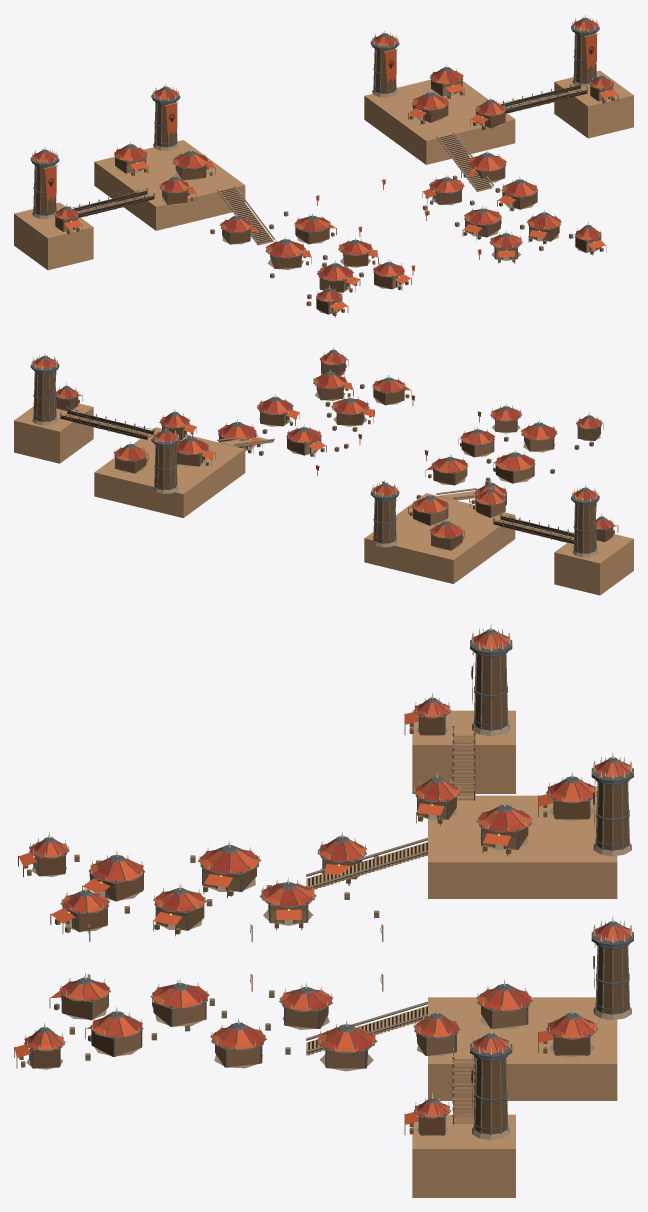
The model's file is orgrimmar-wards.glb.
3 views of the same model, one above another, from view 1: azimuth 30°, elevation 25°; view 2: azimuth 150°, elevation 25°; view 3: azimuth 270°, elevation 25° (orthographic). The views are drawn at different scales.
Parts seen in each view (by area): view 1: Solid_UpperWard_1_sand, Solid_UpperWard_-1_sand, Solid_UpperWard_-1_wood, Solid_UpperWard_1_wood, Detail_UpperWard_1_red2, Detail_UpperWard_-1_red2, Detail_UpperWard_1_iron, Detail_UpperWard_-1_iron, HiddenSolid_UpperWard_1_dark, HiddenSolid_UpperWard_-1_dark, Solid_LowerWard_0_wood, Detail_LowerWard_2_iron (+21 smaller); view 2: Solid_UpperWard_-1_sand, Solid_UpperWard_1_sand, Solid_UpperWard_1_wood, Solid_UpperWard_-1_wood, Detail_UpperWard_-1_iron, Detail_UpperWard_1_iron, Solid_LowerWard_0_wood2, Detail_LowerWard_0_iron, Detail_LowerWard_2_iron, Detail_LowerWard_2_red2, Detail_UpperWard_1_edge, Detail_LowerWard_1_iron (+26 smaller); view 3: Solid_UpperWard_-1_sand, Solid_UpperWard_1_sand, Solid_UpperWard_1_wood, Solid_UpperWard_-1_wood, Detail_UpperWard_1_iron, Detail_UpperWard_-1_iron, Solid_LowerWard_2_wood2, Detail_UpperWard_-1_red2, Detail_LowerWard_0_red2, Detail_LowerWard_2_iron, Detail_UpperWard_1_red2, Detail_LowerWard_0_iron (+22 smaller).
Boxes of the visible parts, x1,y1,x2,y2 form: Solid_UpperWard_1_sand: (364,70,633,164); Solid_UpperWard_-1_sand: (14,140,245,270); Solid_UpperWard_-1_wood: (34,103,205,231); Solid_UpperWard_1_wood: (374,34,598,128); Detail_UpperWard_1_red2: (376,21,617,123); Detail_UpperWard_-1_red2: (37,90,214,228); Detail_UpperWard_1_iron: (370,17,613,127); Detail_UpperWard_-1_iron: (30,86,208,231); HiddenSolid_UpperWard_1_dark: (439,85,586,190); HiddenSolid_UpperWard_-1_dark: (72,188,272,243); Solid_LowerWard_0_wood: (274,254,391,292); Detail_LowerWard_2_iron: (429,152,537,236); Solid_UpperWard_-1_sand: (364,493,633,595); Solid_UpperWard_1_sand: (14,403,245,517); Solid_UpperWard_1_wood: (34,372,199,489); Solid_UpperWard_-1_wood: (374,499,613,553); Detail_UpperWard_-1_iron: (370,483,613,551); Detail_UpperWard_1_iron: (30,355,208,487); Solid_LowerWard_0_wood2: (460,420,553,483); Detail_LowerWard_0_iron: (461,406,557,482); Detail_LowerWard_2_iron: (217,397,369,454); Detail_LowerWard_2_red2: (219,399,374,450); Detail_UpperWard_1_edge: (33,371,177,490); Detail_LowerWard_1_iron: (313,371,507,504); Solid_UpperWard_-1_sand: (412,710,617,898); Solid_UpperWard_1_sand: (412,997,617,1197); Solid_UpperWard_1_wood: (417,946,628,1135); Solid_UpperWard_-1_wood: (417,654,628,850); Detail_UpperWard_1_iron: (413,921,633,1133); Detail_UpperWard_-1_iron: (413,629,633,848); Solid_LowerWard_2_wood2: (152,1002,365,1068); Detail_UpperWard_-1_red2: (405,632,630,845); Detail_LowerWard_0_red2: (51,849,260,925); Detail_LowerWard_2_iron: (150,983,377,1067); Detail_UpperWard_1_red2: (405,924,630,1124); Detail_LowerWard_0_iron: (60,845,261,930).
Size of the model in its own units: 230 by 37.4 by 138.
